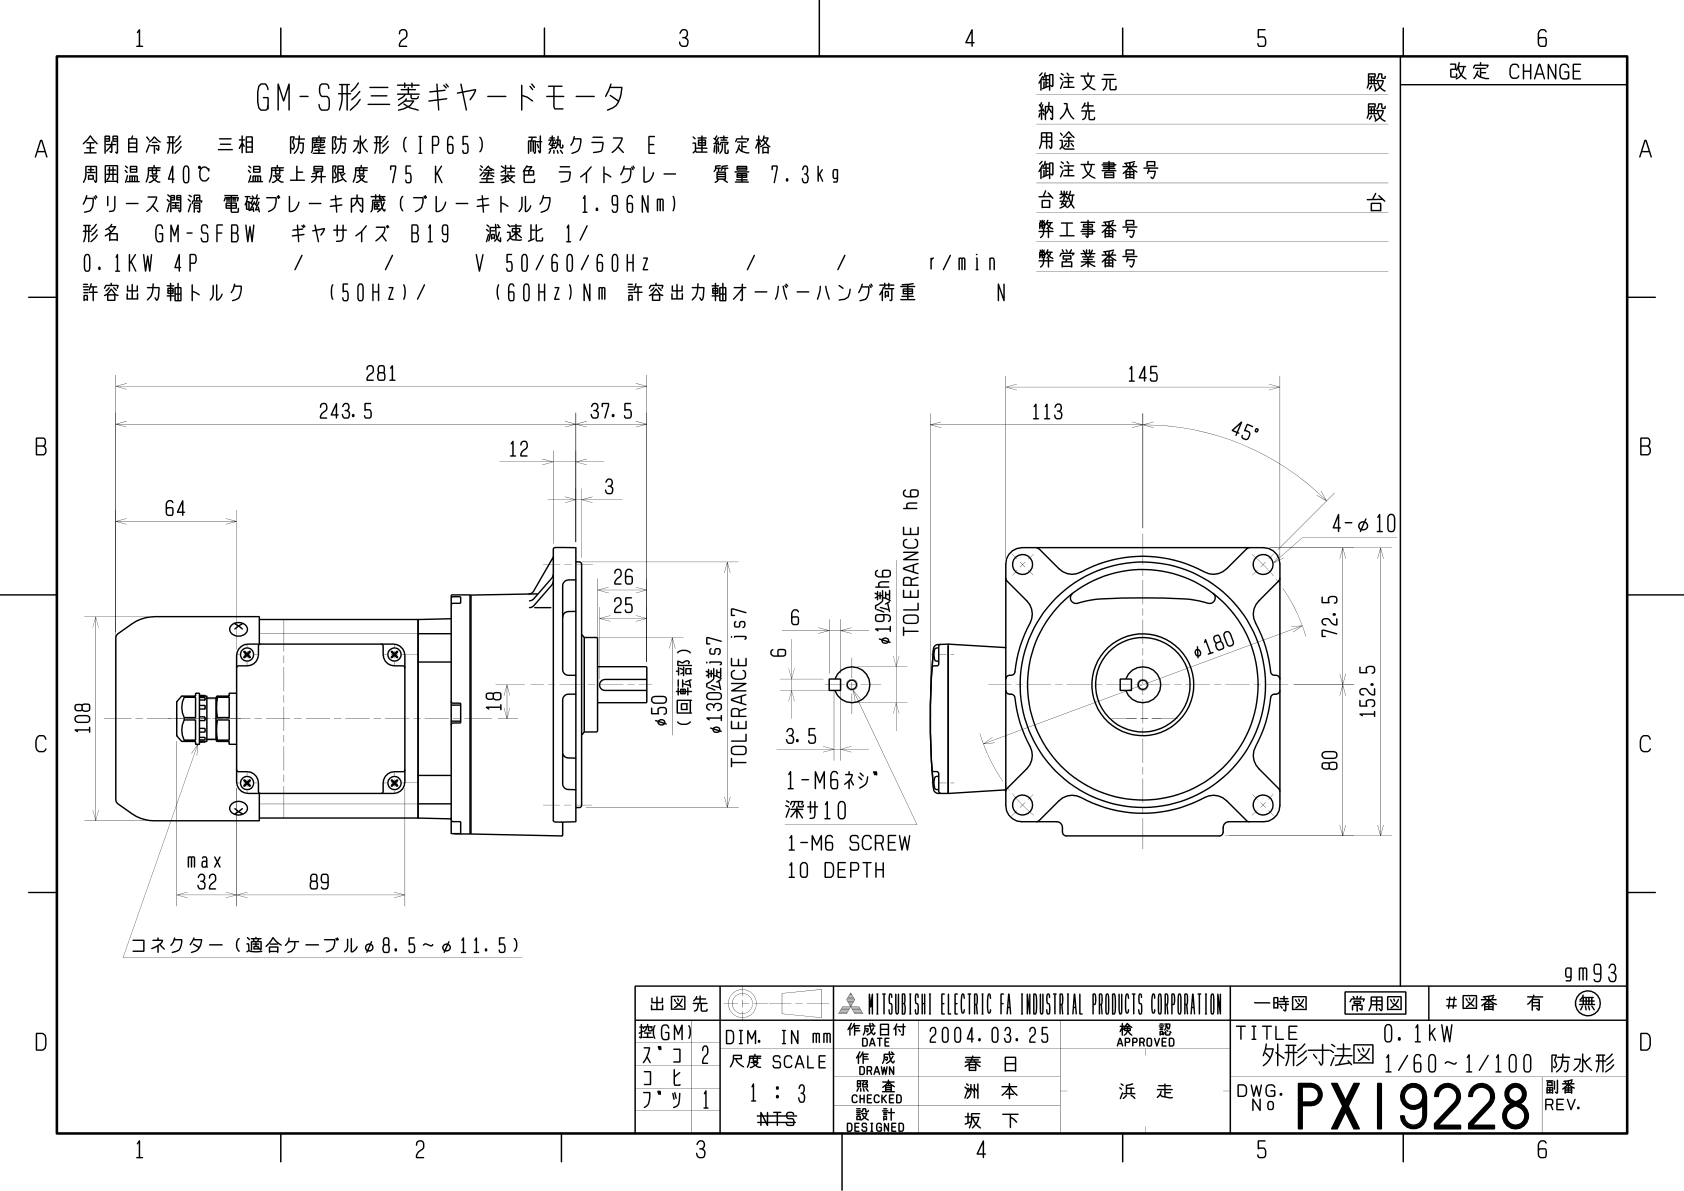GM_S_IP65＿三相_フランジ: (55, 345, 1403, 963)
